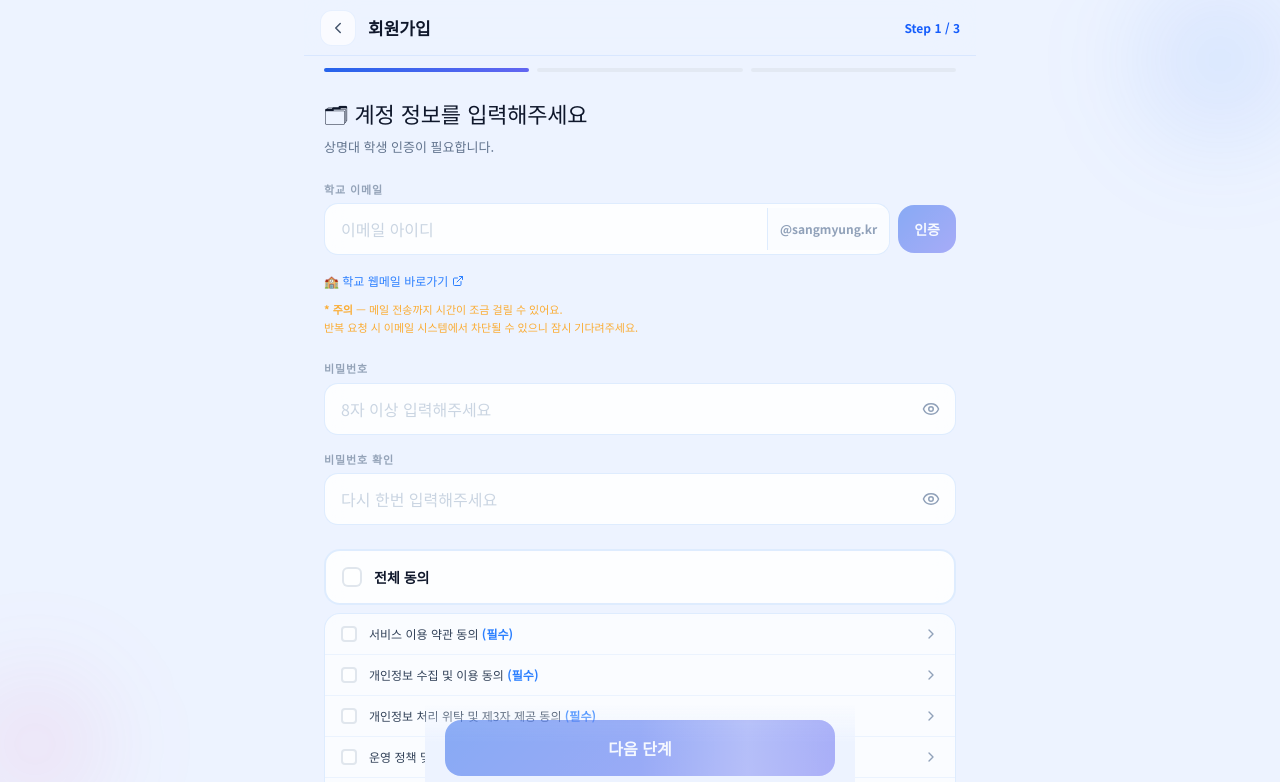
Scenario: SignupPage › 비밀번호 일치 시 확인 메시지 표시
The image size is (1280, 782).
In the password field labelled "비밀번호": (640, 409) [324,383,956,435], type "password123"
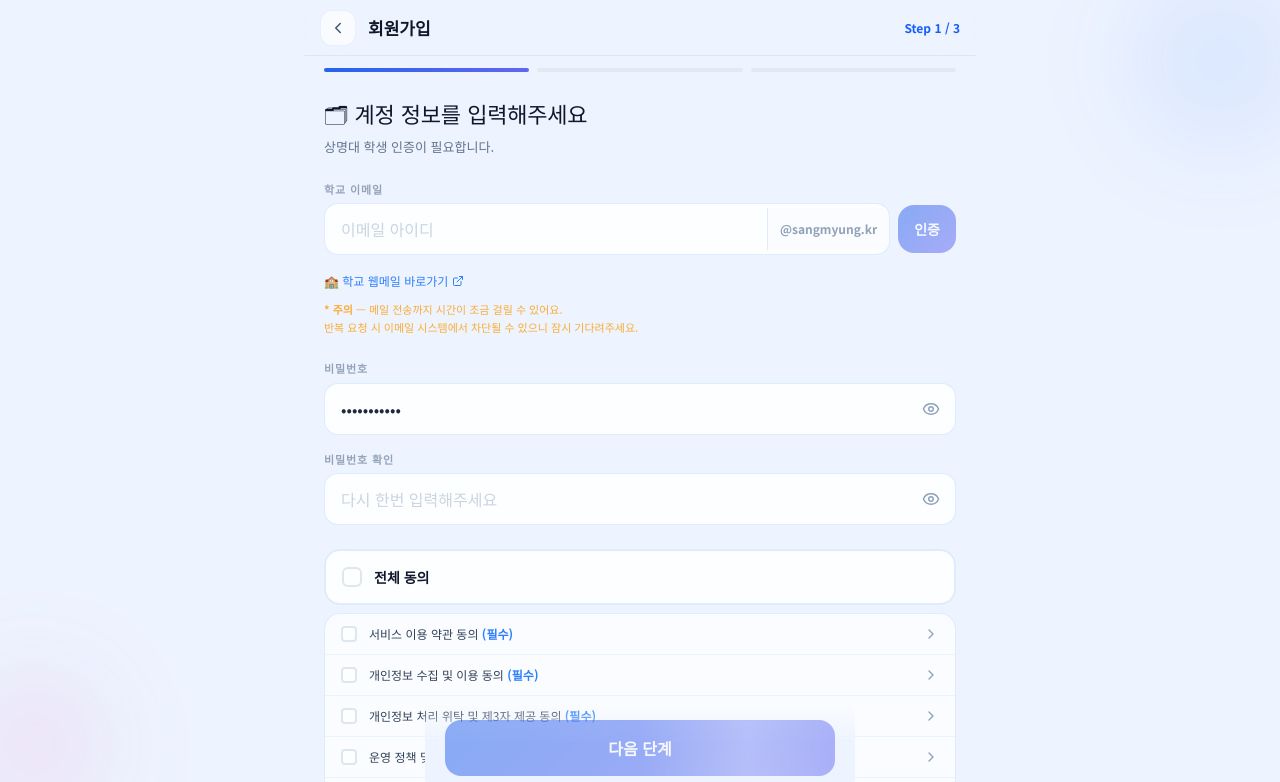
In the password field labelled "비밀번호 확인": (640, 499) [324,473,956,525], type "password123"
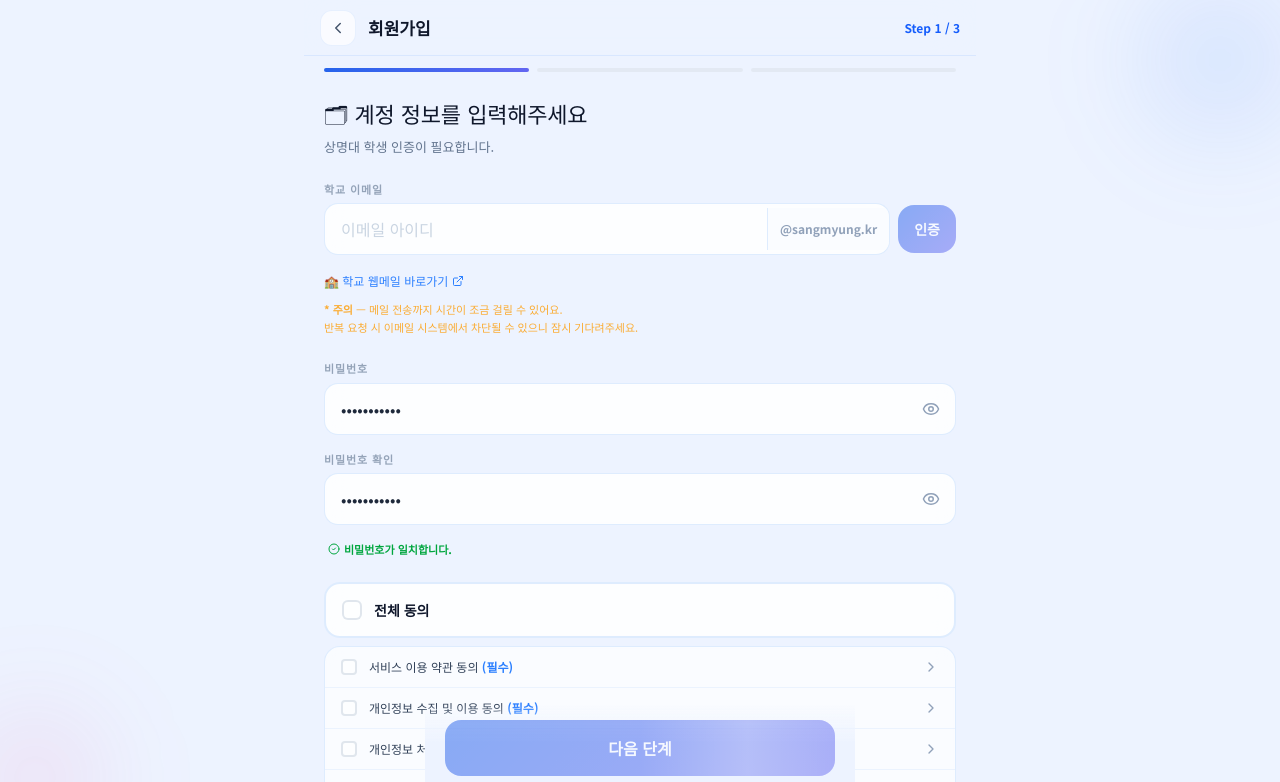
Expected: the text "비밀번호가 일치합니다." is shown, [328,541,452,558]
